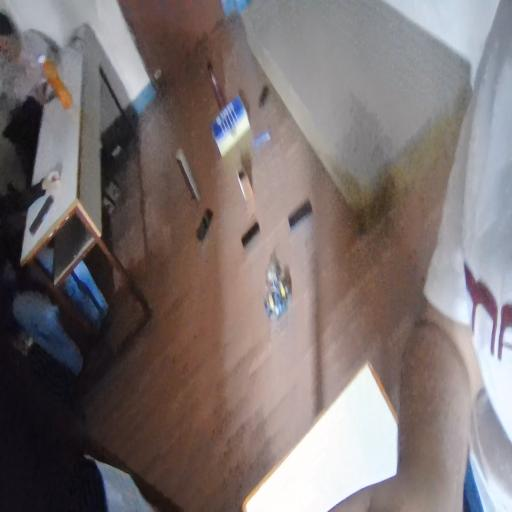car: (259, 260, 287, 305)
